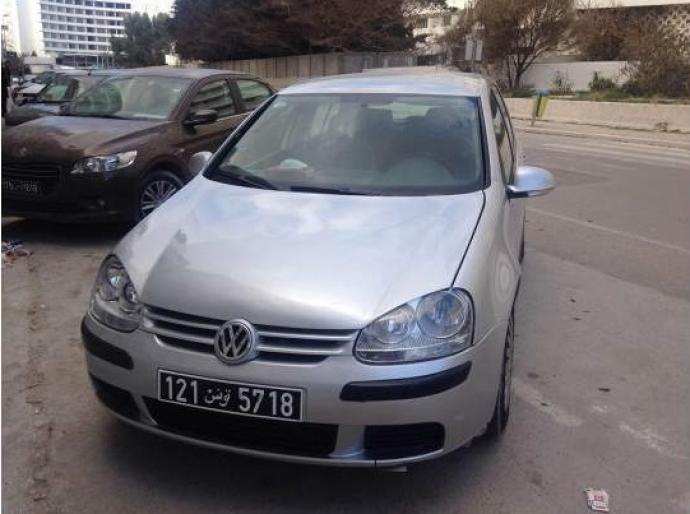LP: (154, 367, 306, 427)
